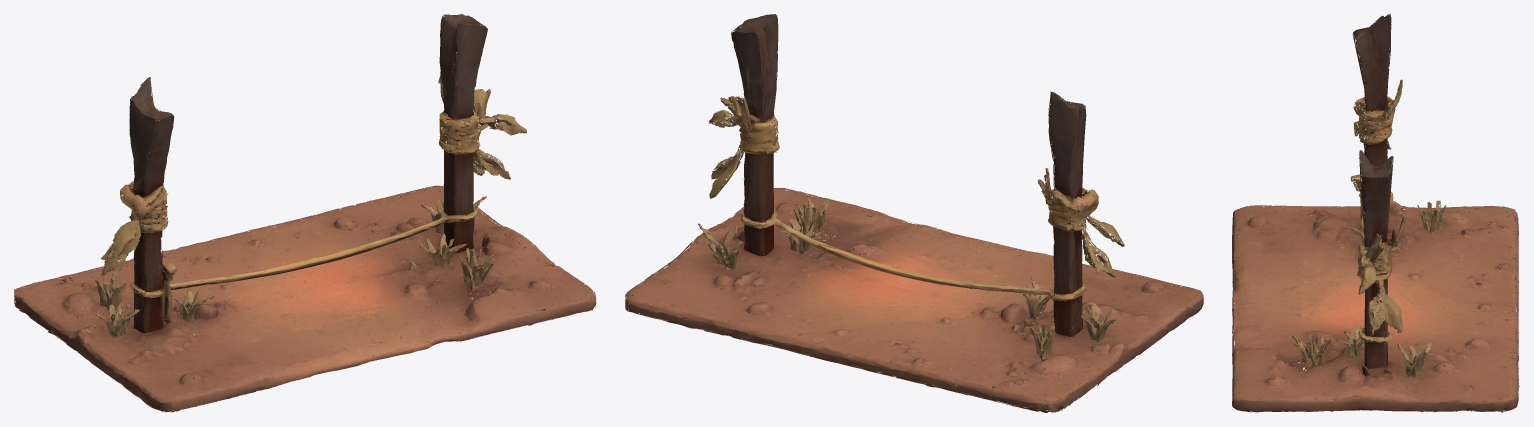
File: cf_tangle_line.glb
The picture shows the model from 3 angles, left to right: view 1: azimuth 30°, elevation 25°; view 2: azimuth 150°, elevation 25°; view 3: azimuth 270°, elevation 25°; orthographic projection. The views are drawn at different scales.
Visible parts, largest first — view 1: base; view 2: base; view 3: base.
Boxes of the visible parts, <box> form: base: <box>14,14,596,412</box>; base: <box>625,14,1203,412</box>; base: <box>1232,14,1519,412</box>.
Bounding box in the file's own units: 1.6 × 0.9 × 0.988.
Materials: 1 (1 with a texture image).
